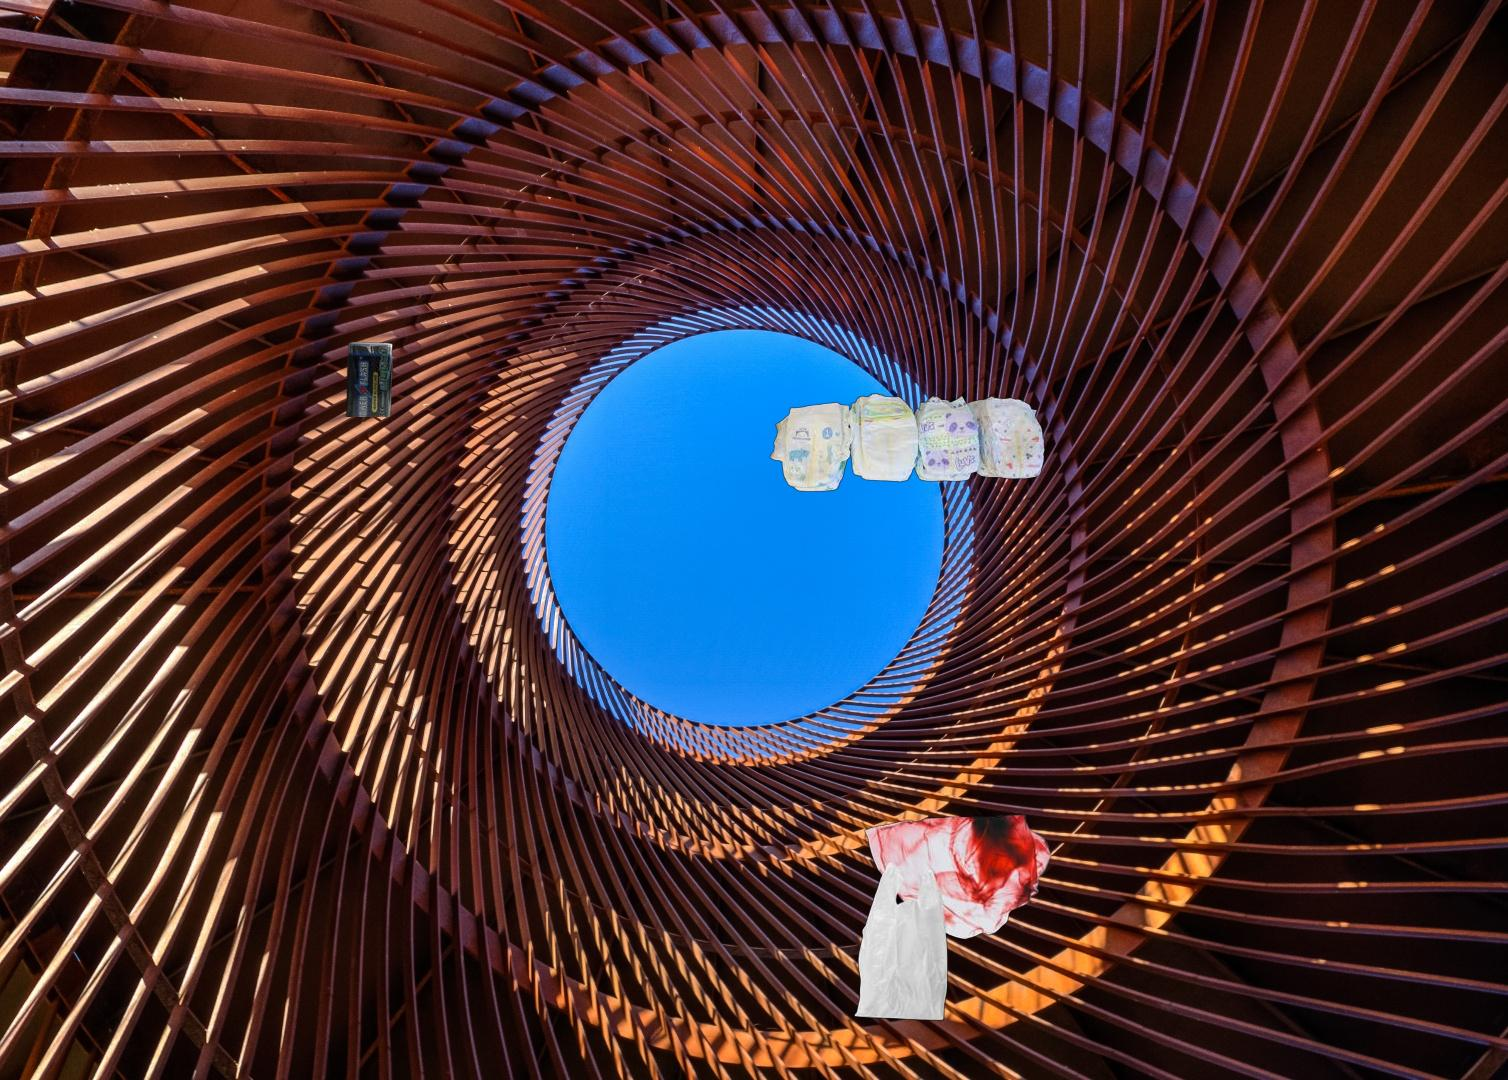battery: (343, 333, 396, 417)
plastic-bag: (845, 812, 1053, 1036)
trash: (767, 392, 1046, 494)
